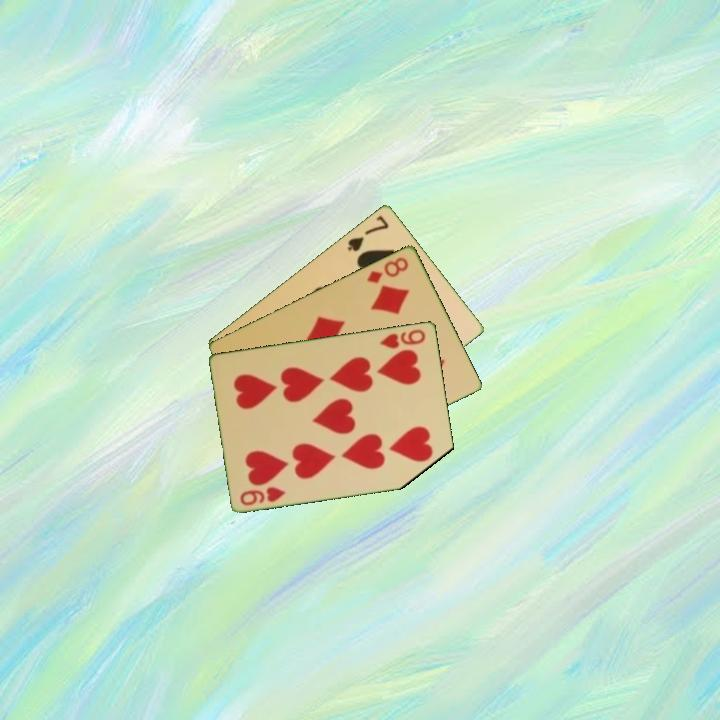7s: (344, 211, 392, 254)
8d: (363, 253, 411, 286)
9h: (376, 325, 428, 351), (237, 483, 288, 508)
